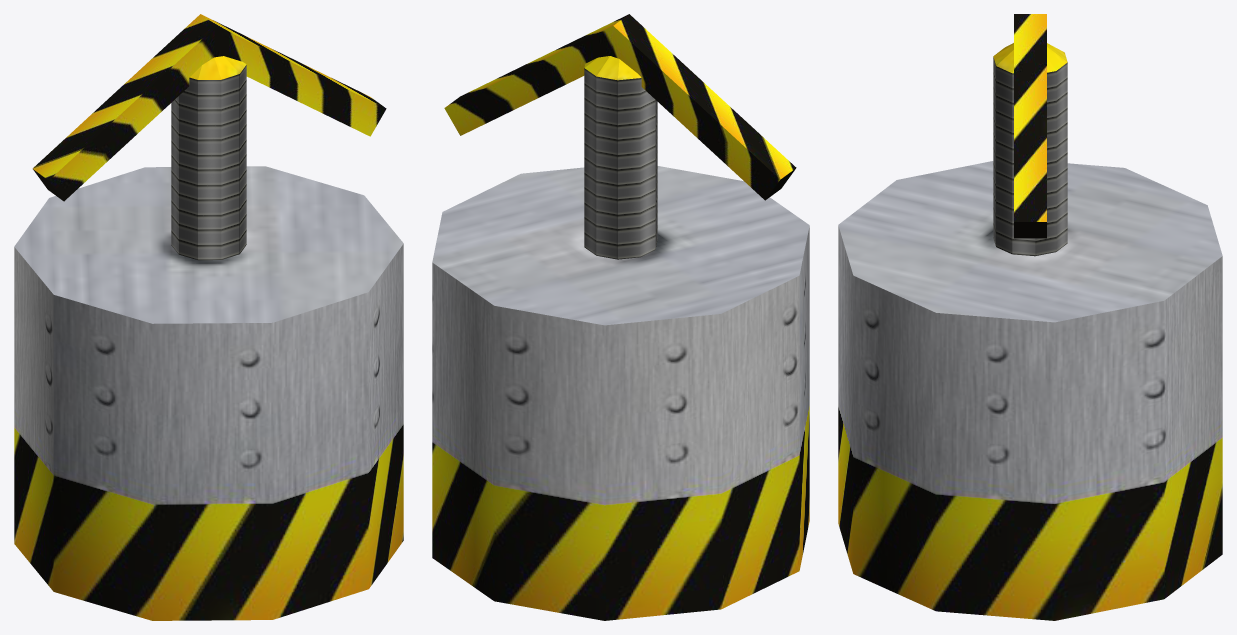
Rendered from HookLvl2.FBX.
3 renders of one model, left to right at view 1: azimuth 30°, elevation 25°; view 2: azimuth 150°, elevation 25°; view 3: azimuth 270°, elevation 25°, orthographic.
Parts seen in each view (by area): view 1: HookLvl2; view 2: HookLvl2; view 3: HookLvl2.
Boxes of the visible parts, box(x1,y1,x2,y2) form: HookLvl2: box(14, 14, 403, 620); HookLvl2: box(432, 14, 809, 620); HookLvl2: box(838, 14, 1222, 620).
Bounding box in the file's own units: 11.68 × 17.25 × 11.45.
